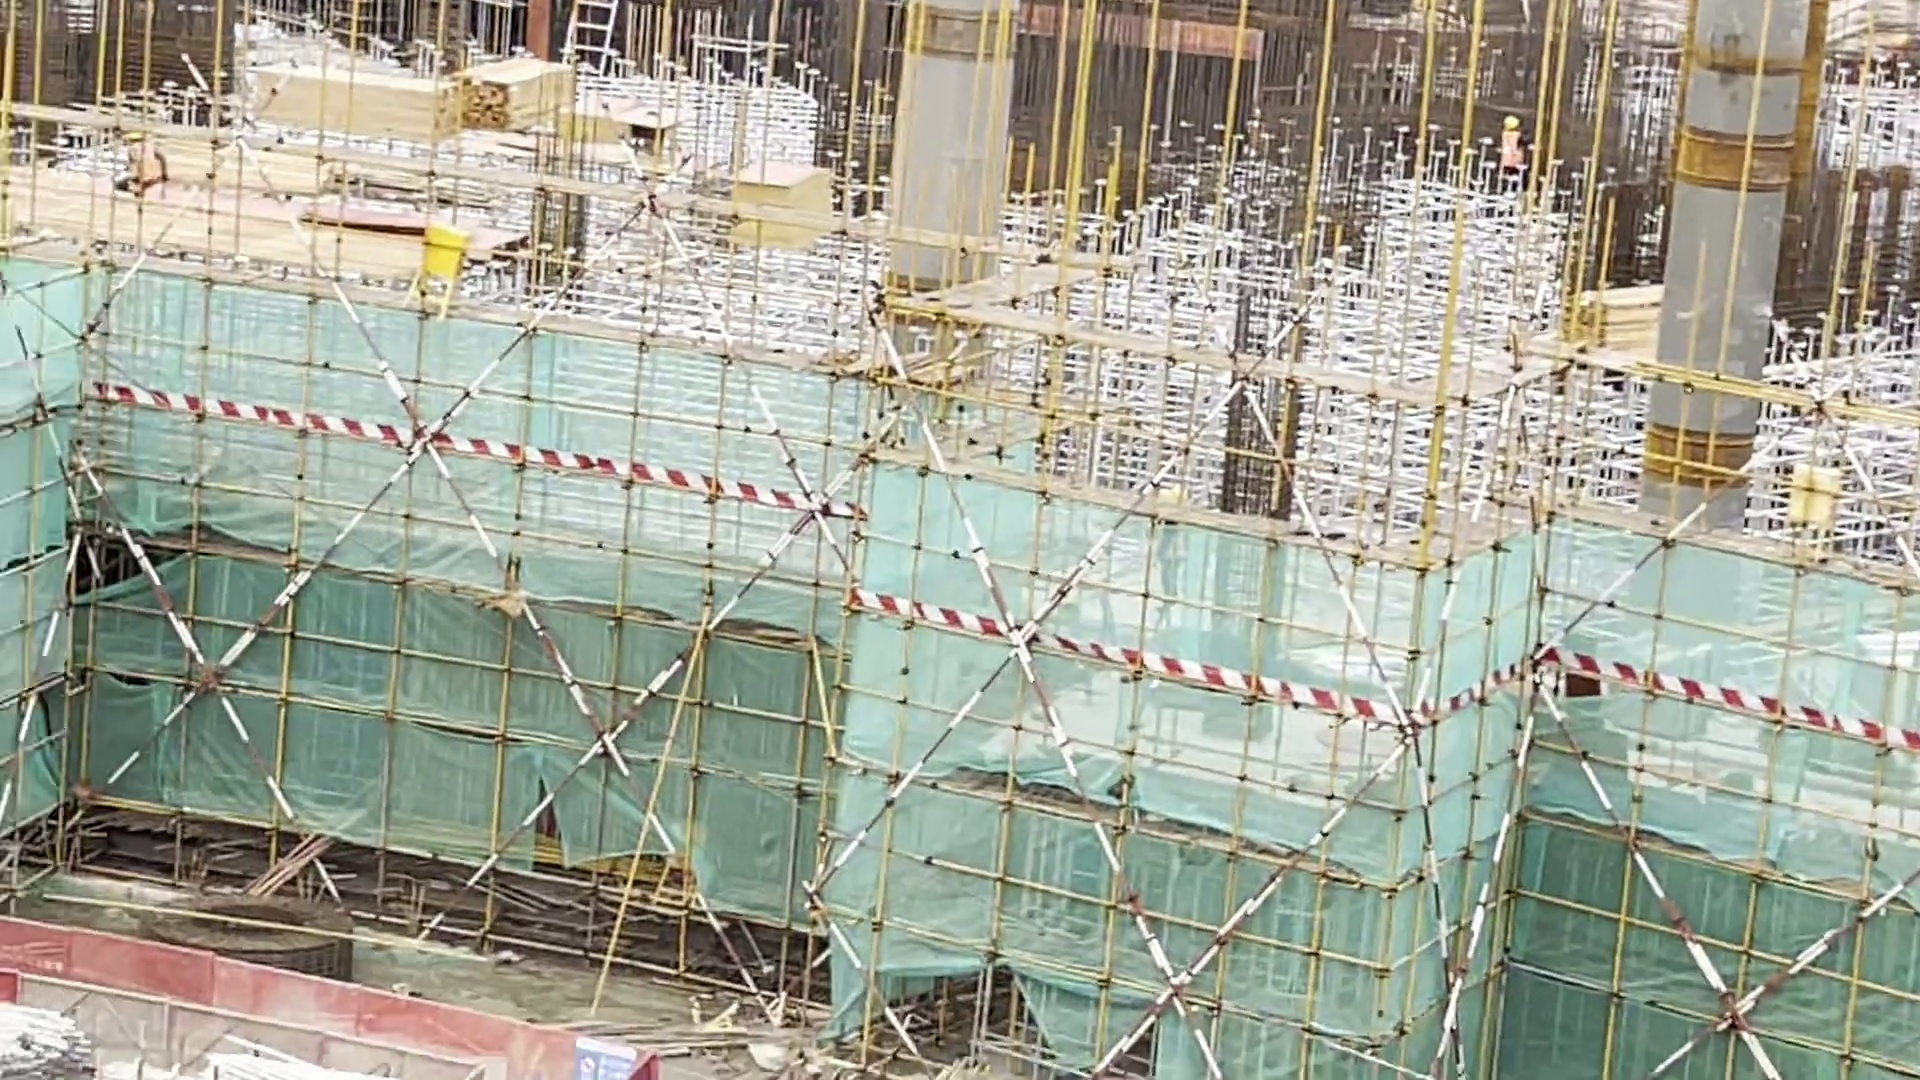helmet: (109, 120, 151, 150), (1502, 109, 1525, 139)
person: (114, 123, 196, 248), (1488, 107, 1553, 188)
vest: (129, 145, 166, 182), (1493, 124, 1522, 161)
